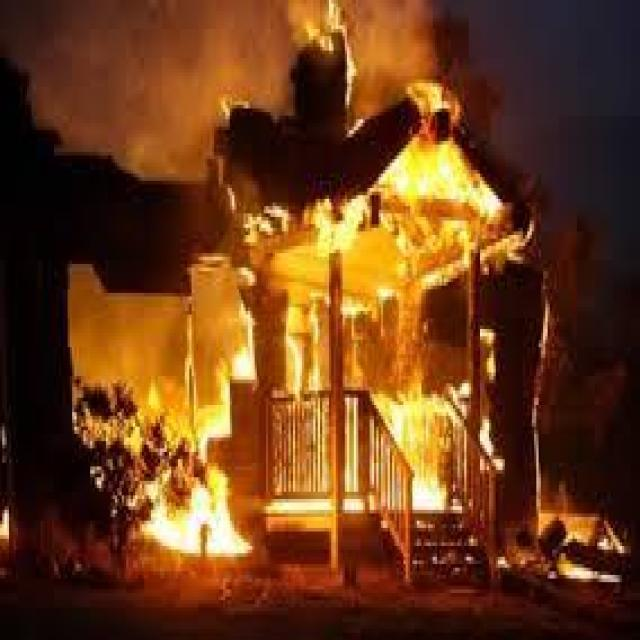Fire: (274, 368, 466, 518), (364, 133, 504, 250), (148, 462, 258, 570), (192, 316, 265, 444), (302, 192, 372, 286), (278, 291, 342, 370), (318, 0, 364, 101)
Smoke: (11, 12, 290, 175), (372, 0, 468, 72)
